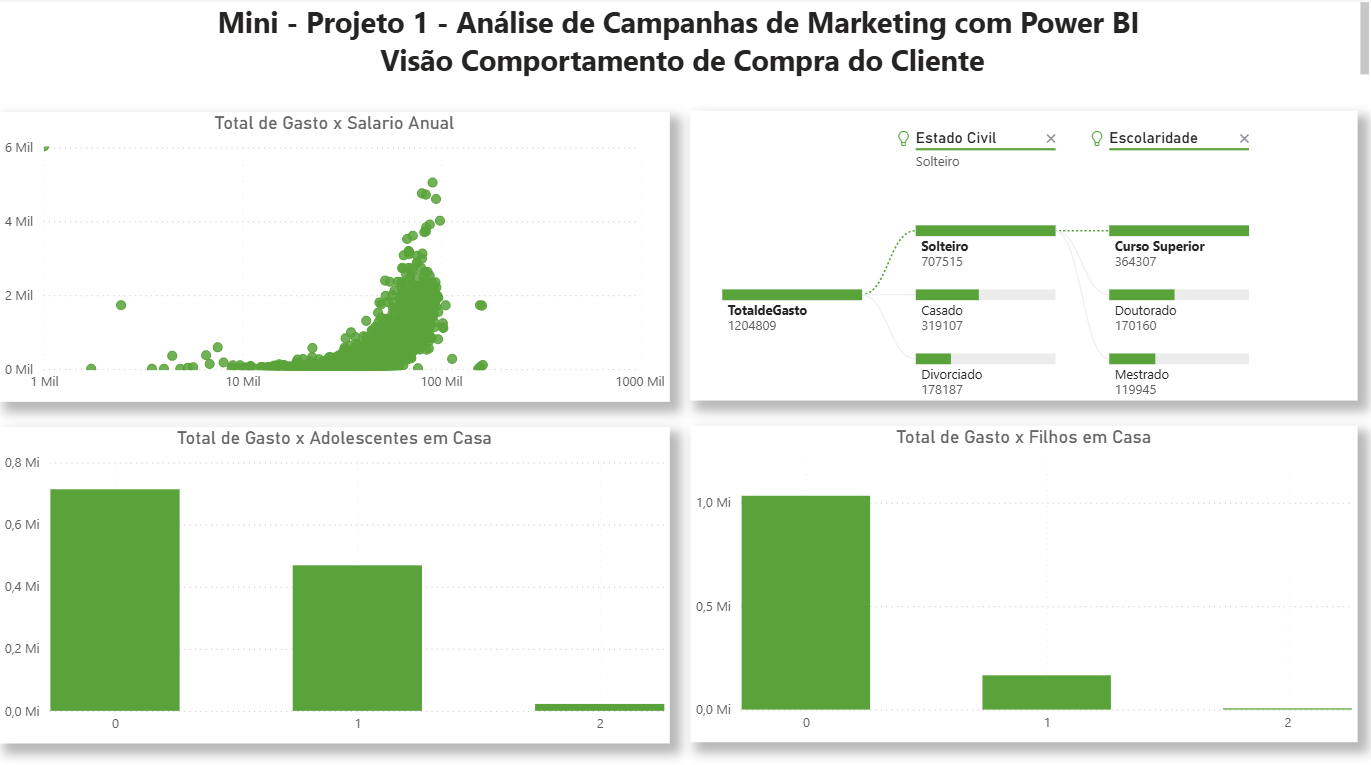

The dashboard page shown, as its layout file describes it:
{"tool":"powerbi","page":{"name":"Visão Comportamento","canvas":[1280,720],"ordinal":1},"visuals":[{"type":"scatterChart","title":"Total de Gasto x Salario Anual","fields":{"X":["Dados Marketing.Salario Anual"],"Y":["Dados Marketing.TotaldeGasto"]},"box":[0,106.8,624.1,269.3],"z":0},{"type":"clusteredColumnChart","title":"Total de Gasto x  Filhos em Casa","fields":{"Y":["Dados Marketing.TotaldeGasto"],"Category":["Dados Marketing.Filhos em Casa"]},"box":[643.1,398.7,620.5,294.3],"z":1000},{"type":"clusteredColumnChart","title":"Total de Gasto x Adolescentes em Casa","fields":{"Y":["Dados Marketing.TotaldeGasto"],"Category":["Dados Marketing.Adolescentes em Casa"]},"box":[0,399.9,624.1,294.3],"z":2000},{"type":"decompositionTreeVisual","fields":{"Analyze":["Dados Marketing.TotaldeGasto"],"ExplainBy":["Dados Marketing.Estado Civil","Dados Marketing.Escolaridade"]},"box":[643.1,105.6,620.5,269.3],"z":3000},{"type":"textbox","box":[0,0,1279.6,78.9],"z":4000}]}

Visuals, with their boxes in screenshot pixels (x1, y1, x2, y2), scaled from the page's 1280x720 canvas onto the 1371x765 screenshot:
"Total de Gasto x Salario Anual" scatterChart: <box>0,113,668,400</box>
"Total de Gasto x  Filhos em Casa" clusteredColumnChart: <box>689,424,1353,736</box>
"Total de Gasto x Adolescentes em Casa" clusteredColumnChart: <box>0,425,668,738</box>
decompositionTreeVisual - Dados Marketing.TotaldeGasto x Dados Marketing.Estado Civil: <box>689,112,1353,398</box>
textbox: <box>0,0,1370,84</box>
